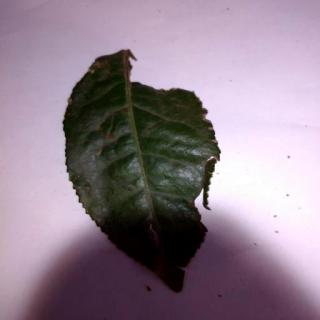Bird Eye Spot: (62, 51, 221, 294)
